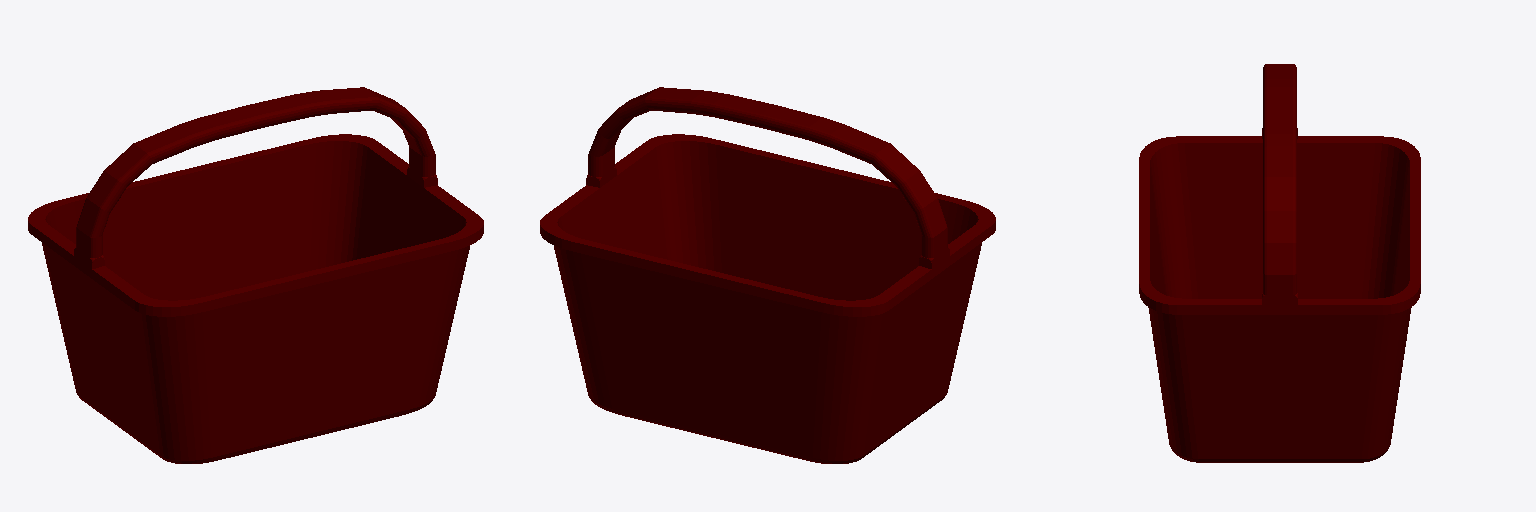
The model's file is basket.obj.
3 views of the same model, side by side, from view 1: azimuth 30°, elevation 25°; view 2: azimuth 150°, elevation 25°; view 3: azimuth 270°, elevation 25° (orthographic).
Visible parts, largest first — view 1: Plane; view 2: Plane; view 3: Plane.
Boxes of the visible parts, <box> form: Plane: <box>28,87,483,463</box>; Plane: <box>540,87,995,463</box>; Plane: <box>1139,64,1420,462</box>.
Size of the model in its own units: 0.4528 by 0.3664 by 0.3196.